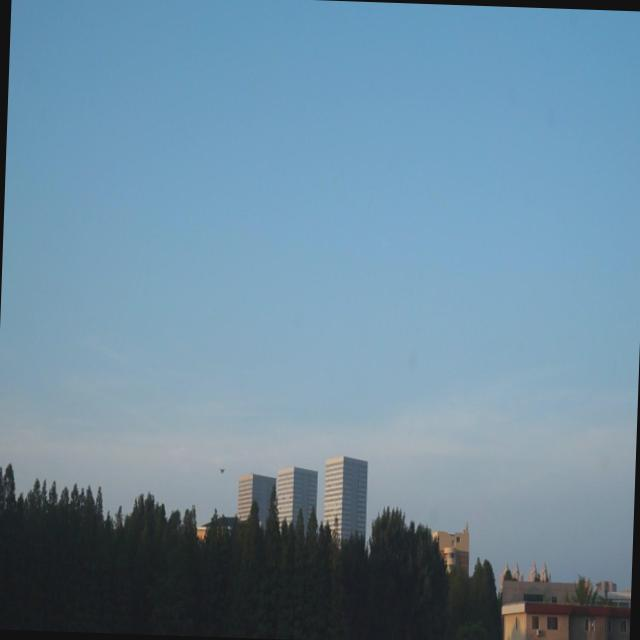drone: (217, 460, 226, 478)
